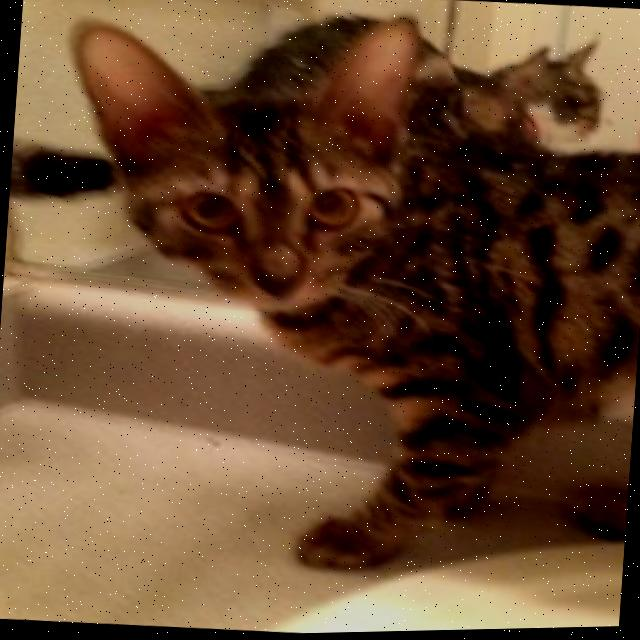Bengal: (35, 0, 640, 624)
